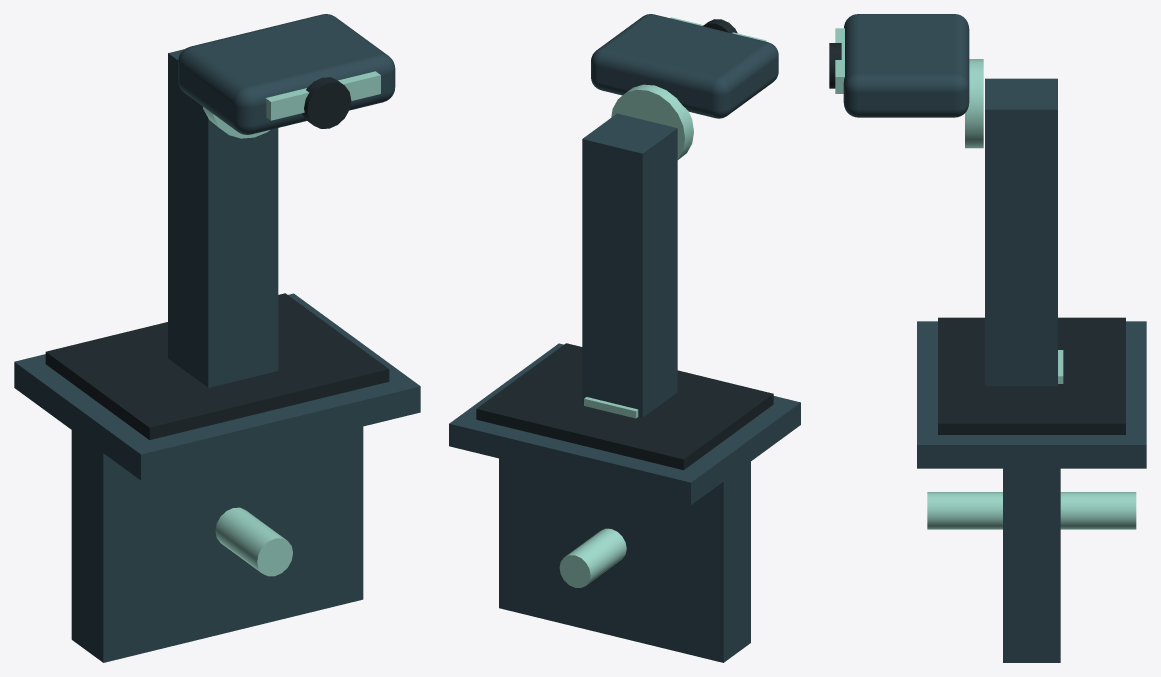
3 renders of one model, left to right at view 1: azimuth 30°, elevation 25°; view 2: azimuth 150°, elevation 25°; view 3: azimuth 270°, elevation 25°, orthographic. The views are drawn at different scales.
Parts seen in each view (by area): view 1: mount-clamp-jaw, mount-riser, mount-clearance, mount-frame, camera-cradle, mount-screw, mount-rubber, mount-trim; view 2: mount-clamp-jaw, mount-riser, mount-clearance, mount-frame, camera-cradle, mount-pivot, mount-screw, mount-anchor; view 3: mount-riser, mount-clearance, camera-cradle, mount-frame, mount-clamp-jaw, mount-screw, mount-pivot, mount-trim.
Part boxes in pixels (x1,y1,x2,y2): mount-clamp-jaw: (71, 426, 363, 662); mount-riser: (168, 49, 278, 387); mount-clearance: (45, 293, 389, 439); mount-frame: (14, 293, 420, 480); camera-cradle: (178, 14, 395, 134); mount-screw: (215, 507, 292, 576); mount-rubber: (302, 77, 351, 128); mount-trim: (265, 71, 380, 120); mount-clamp-jaw: (499, 458, 750, 662); mount-riser: (582, 113, 677, 417); mount-clearance: (476, 343, 773, 470); mount-frame: (449, 343, 800, 505); camera-cradle: (591, 14, 778, 118); mount-pivot: (611, 84, 693, 159); mount-screw: (559, 528, 626, 587); mount-anchor: (584, 397, 638, 418); mount-riser: (985, 78, 1057, 386); mount-clearance: (938, 317, 1125, 434); camera-cradle: (843, 14, 969, 117); mount-frame: (917, 321, 1146, 468); mount-clamp-jaw: (1003, 468, 1060, 662); mount-screw: (927, 492, 1136, 529); mount-pivot: (965, 59, 983, 148); mount-trim: (835, 28, 844, 93).
Size of the model in its own units: 0.28 by 0.5925 by 0.304.
